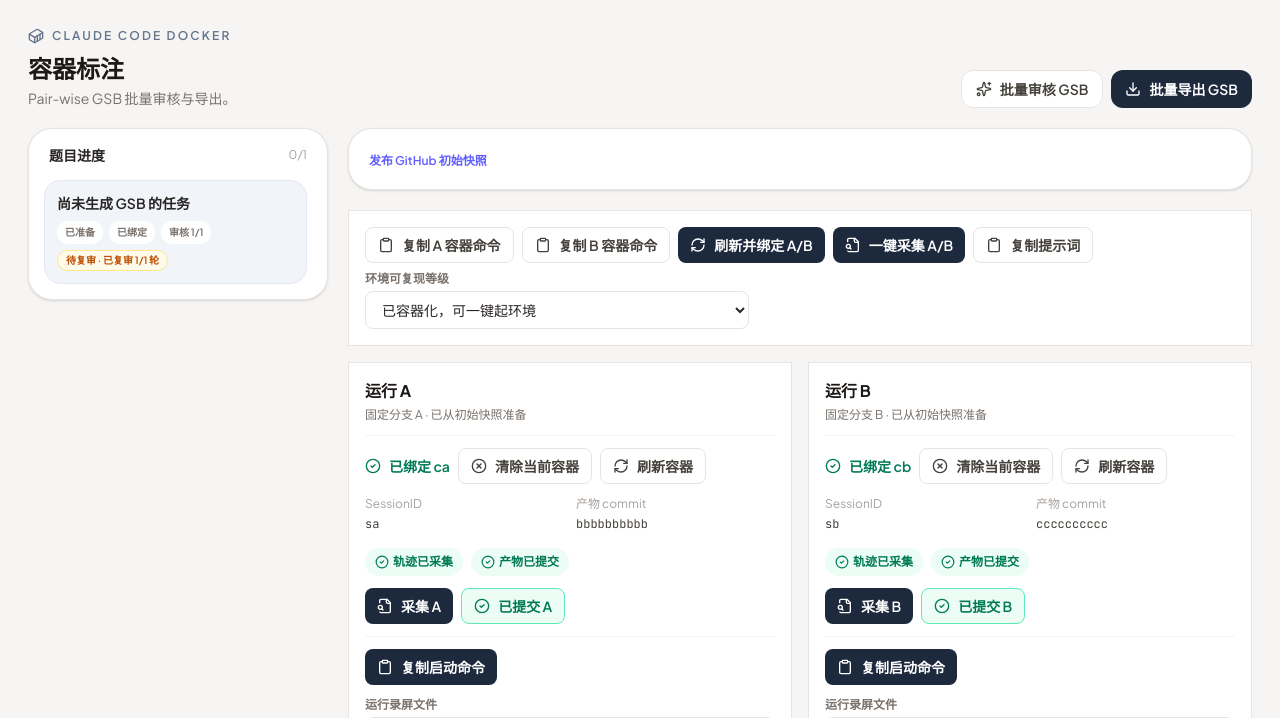
Scenario: AnnotationWorkspace › says so when no task has a generated GSB yet
Click the button "批量导出 GSB" at (1182, 89), box [1111, 70, 1252, 108]
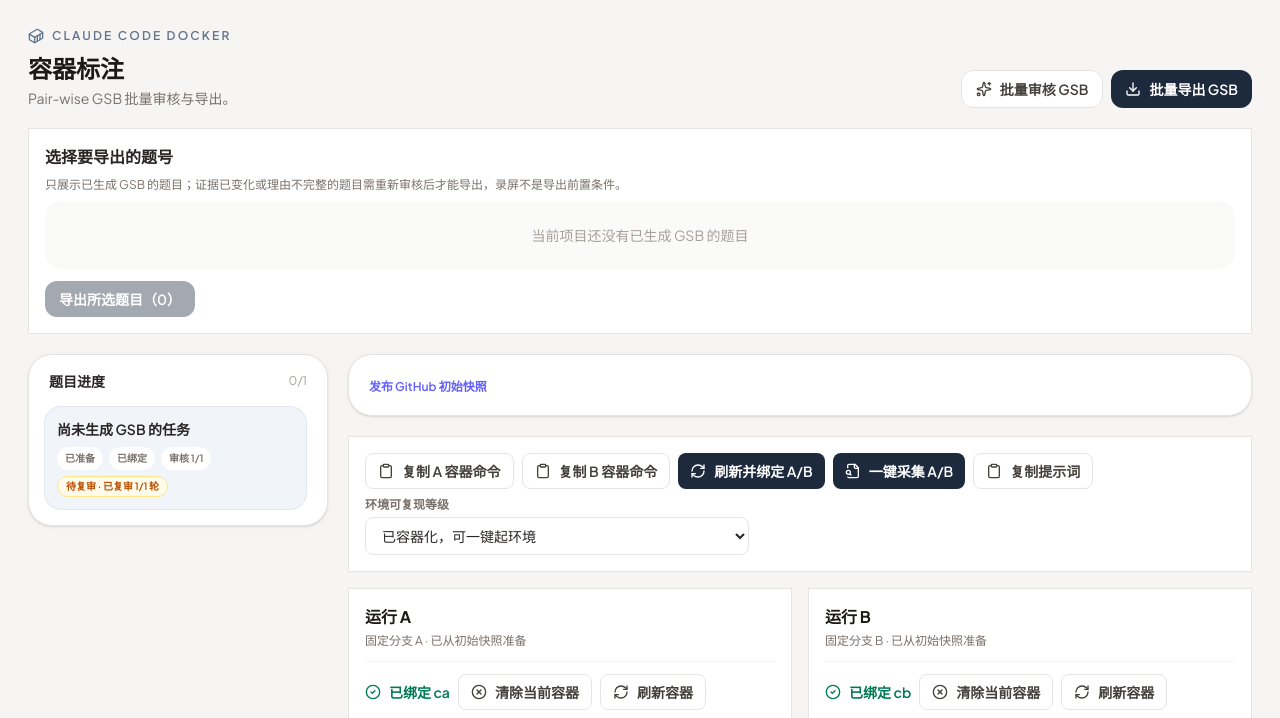
Expected: the text "当前项目还没有已生成 GSB 的题目" is shown, [45, 201, 1235, 269]
